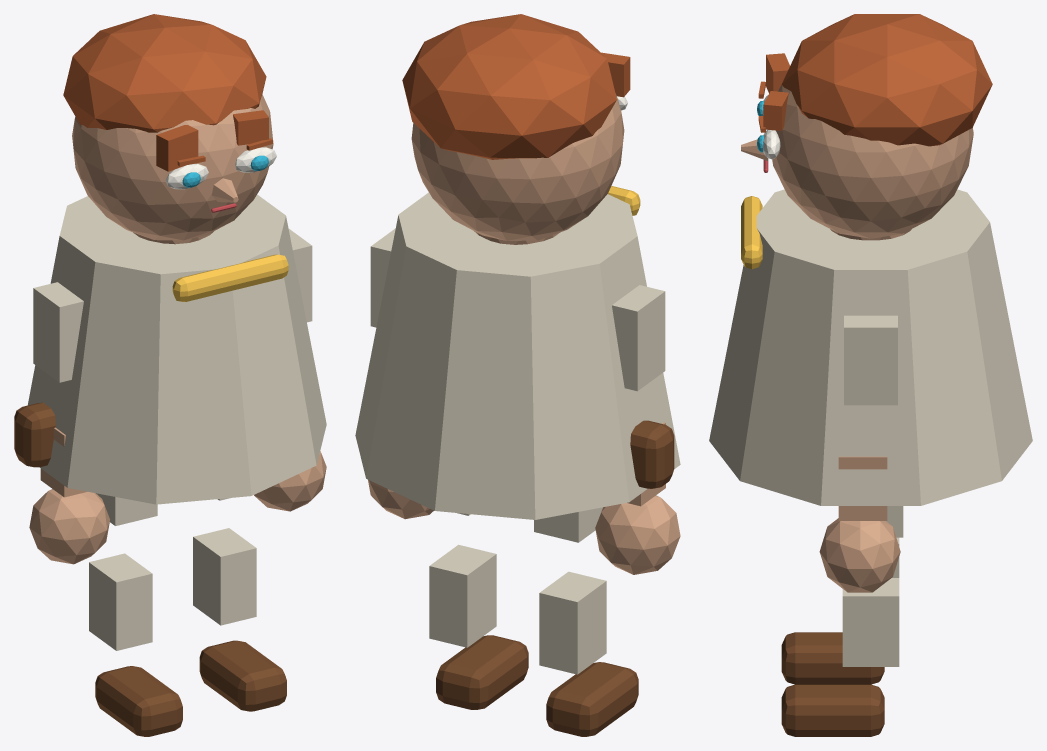
File: pip.glb
The picture shows the model from 3 angles, left to right: view 1: azimuth 30°, elevation 25°; view 2: azimuth 150°, elevation 25°; view 3: azimuth 270°, elevation 25°; orthographic projection. The views are drawn at different scales.
Parts seen in each view (by area): view 1: Tunic, HairCap, Head, ShinL, ShinR, HandL, BootR, BootL, UpperArmL, Scarf, MapSatchel, HandR (+7 smaller); view 2: Tunic, HairCap, Head, ShinL, ShinR, HandL, BootL, BootR, UpperArmL, MapSatchel, ThighL, UpperArmR (+2 smaller); view 3: Tunic, HairCap, Head, BootR, UpperArmR, HandR, ShinR, BootL, ForearmR, Scarf, HairFringeR, HairFringeL.
Part boxes in pixels (x1,y1,x2,y2): Tunic: [28, 194, 326, 504]; HairCap: [63, 14, 266, 132]; Head: [72, 94, 273, 240]; ShinL: [89, 553, 152, 650]; ShinR: [193, 528, 256, 625]; HandL: [29, 489, 109, 564]; BootR: [199, 640, 286, 711]; BootL: [95, 666, 182, 736]; UpperArmL: [33, 282, 83, 382]; Scarf: [172, 254, 288, 301]; MapSatchel: [14, 402, 55, 467]; HandR: [254, 451, 326, 511]; Tunic: [355, 192, 680, 519]; HairCap: [402, 14, 616, 159]; Head: [411, 93, 624, 240]; ShinL: [539, 571, 606, 674]; ShinR: [429, 544, 496, 647]; HandL: [595, 495, 680, 574]; BootL: [546, 662, 638, 736]; BootR: [436, 635, 528, 709]; UpperArmL: [612, 285, 665, 391]; MapSatchel: [630, 420, 674, 488]; ThighL: [534, 507, 602, 542]; UpperArmR: [370, 228, 395, 327]; Tunic: [709, 189, 1032, 505]; HairCap: [781, 14, 992, 146]; Head: [772, 84, 973, 238]; BootR: [781, 684, 884, 736]; UpperArmR: [844, 315, 897, 405]; HandR: [819, 518, 900, 592]; ShinR: [842, 578, 899, 666]; BootL: [781, 632, 884, 684]; ForearmR: [838, 456, 887, 520]; Scarf: [741, 196, 762, 269]; HairFringeR: [763, 91, 788, 130]; HairFringeL: [766, 53, 789, 93].
Bounding box in the file's own units: 0.6379 × 1.39 × 0.5984.
